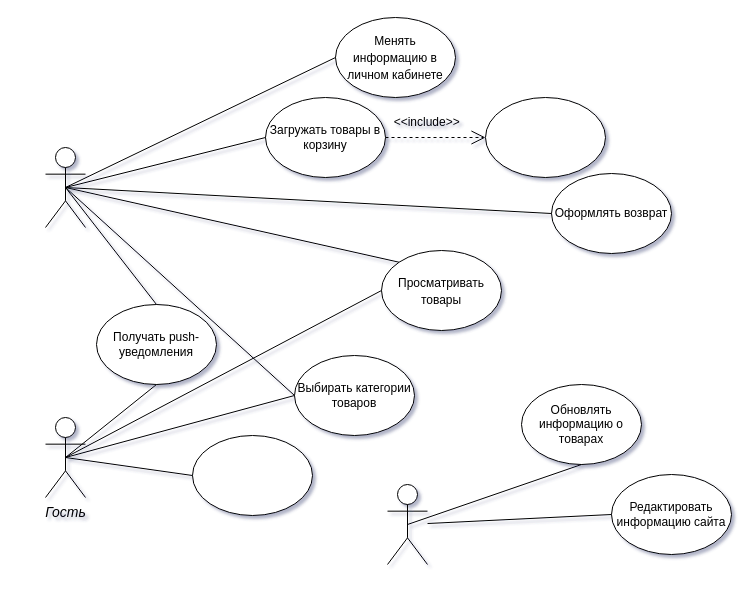
This 755x612 diagram has some shape labels left out. Each missing label, with the box of its shape:
Администратор: (386, 484, 428, 564)
Оформлять заказ на покупку товара: (484, 96, 606, 178)
Пользователь: (44, 146, 86, 228)
Создать учетную запись: (192, 434, 312, 516)
